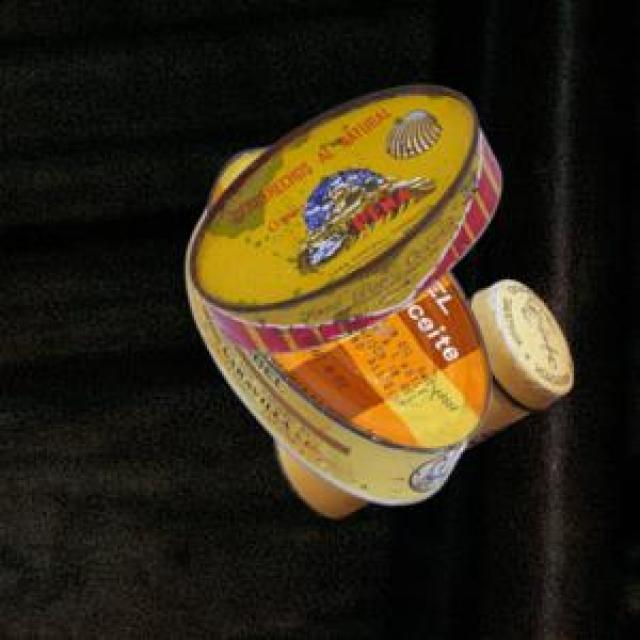Can: (182, 145, 487, 502), (187, 82, 498, 349), (270, 276, 571, 515)
